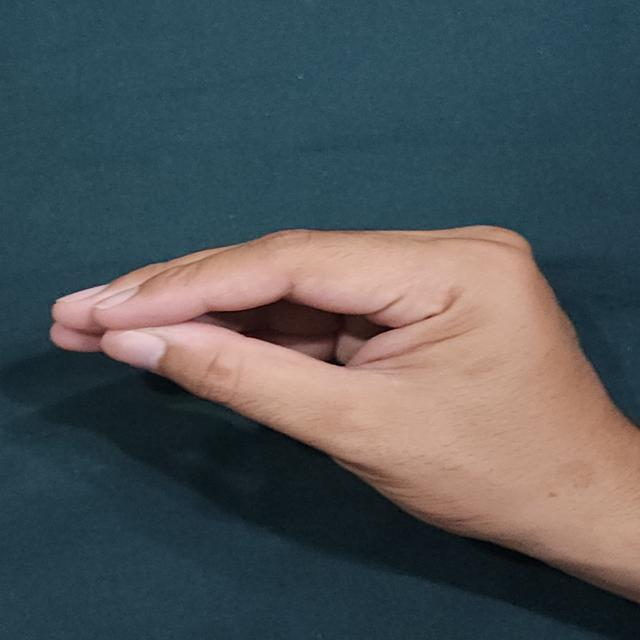ج: (48, 216, 640, 579)
